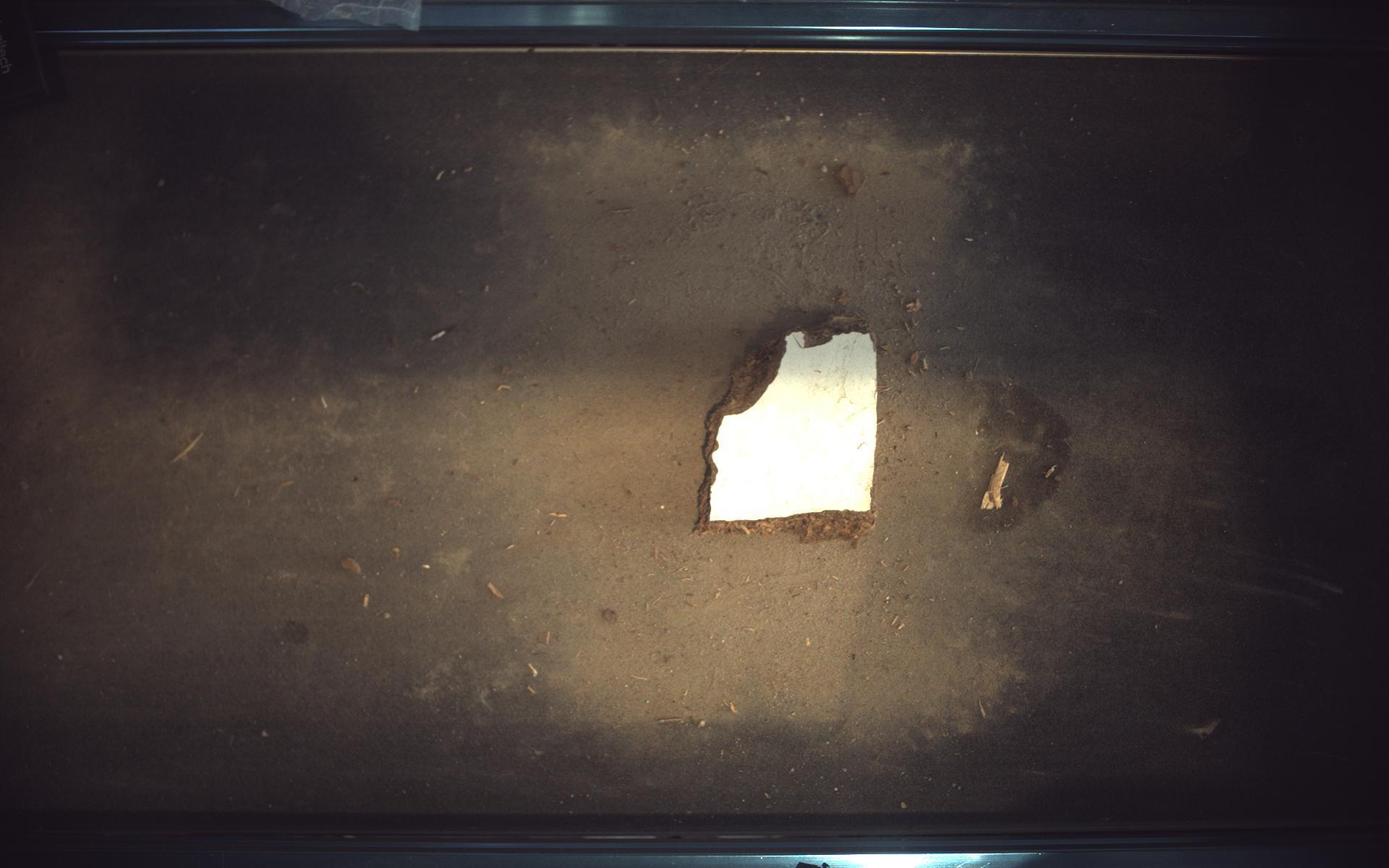wood: (696, 315, 880, 543)
